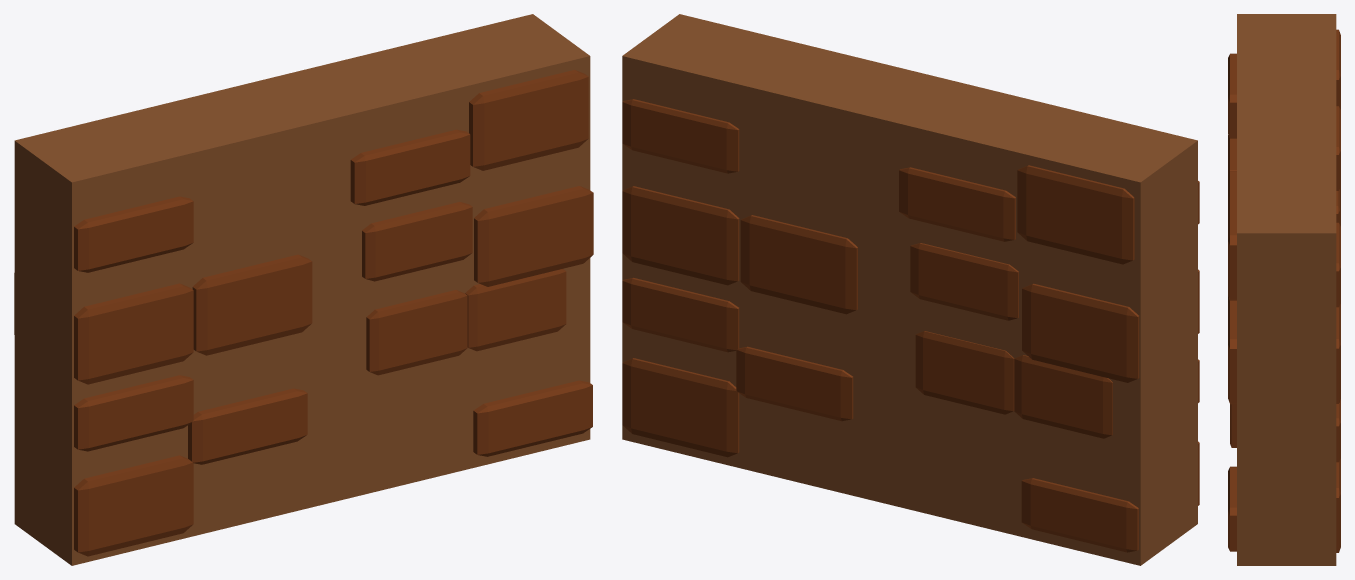
The model's file is Wall03_house5.fbx.
3 renders of one model, left to right at view 1: azimuth 30°, elevation 25°; view 2: azimuth 150°, elevation 25°; view 3: azimuth 270°, elevation 25°, orthographic. The views are drawn at different scales.
Parts seen in each view (by area): view 1: Wall03_house5; view 2: Wall03_house5; view 3: Wall03_house5.
Part boxes in pixels (x1,y1,x2,y2): Wall03_house5: [14, 14, 593, 565]; Wall03_house5: [622, 14, 1199, 565]; Wall03_house5: [1228, 14, 1340, 565].
Size of the model in its own units: 489 by 346 by 106.
